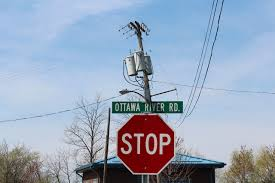Stop: (103, 107, 200, 181)
